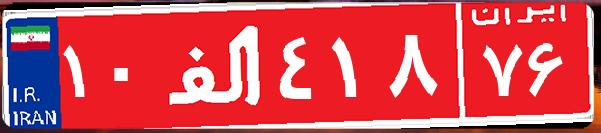0: (110, 28, 158, 105)
1: (330, 28, 385, 110), (57, 26, 110, 107)
4: (273, 28, 330, 110)
6: (525, 38, 570, 115)
7: (475, 38, 525, 113)
8: (385, 28, 445, 110)
الف: (158, 15, 273, 115)
